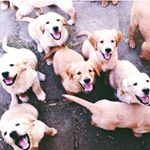puppy: (59, 94, 150, 140), (1, 101, 59, 149), (1, 46, 51, 101), (47, 47, 97, 95), (25, 9, 71, 47), (80, 27, 121, 69), (111, 59, 150, 103)
